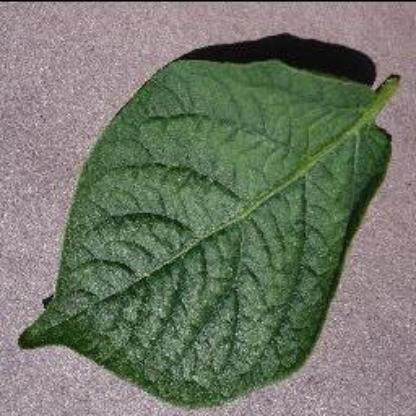Healthy-plant: (17, 51, 400, 408)
